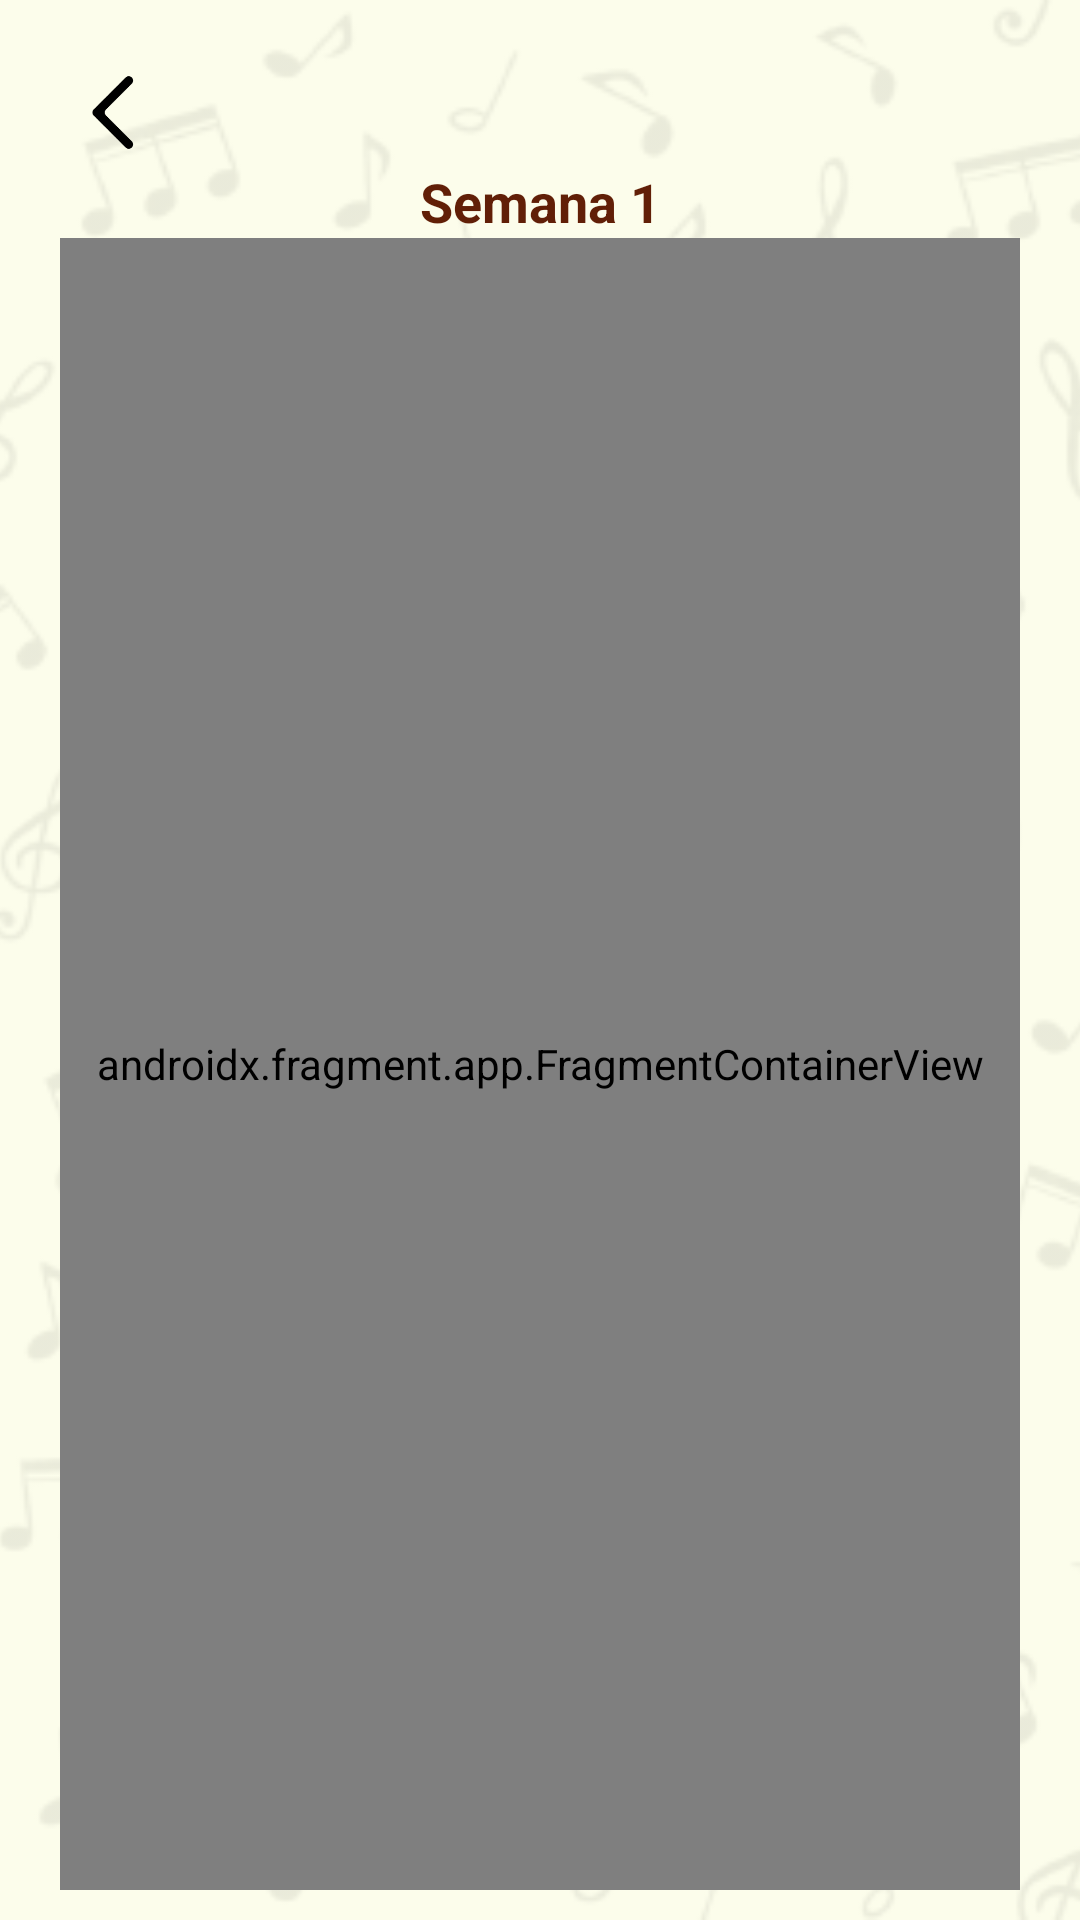

Where to tap for icons on this 1080px x 1920px app screen, as (x=x, y=y):
Back button: (x=112, y=112)
